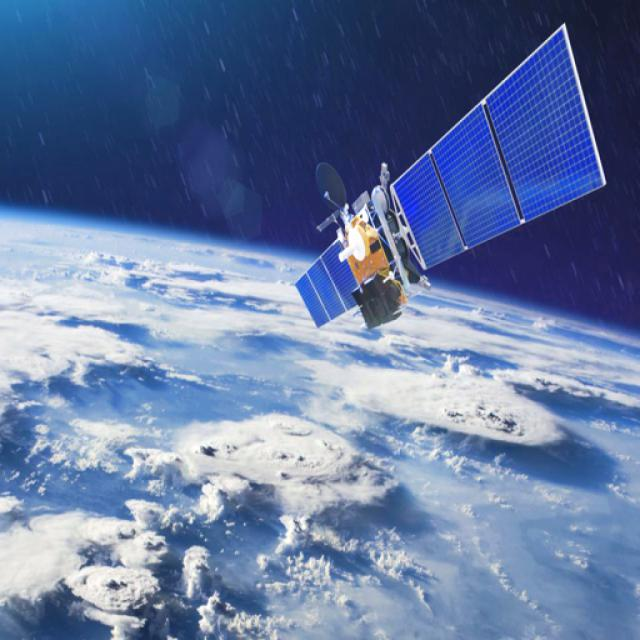medium_debris: (294, 15, 610, 340)
